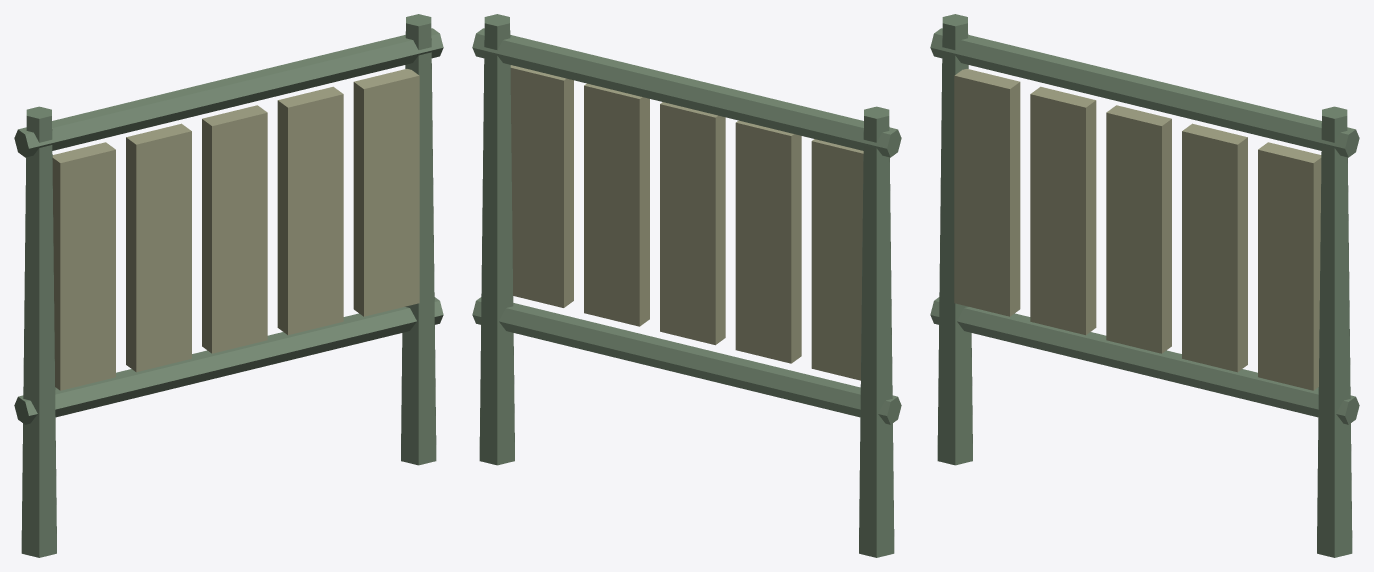
Rendered from map-exclusive-v3__lake_11.glb.
3 renders of one model, left to right at view 1: azimuth 30°, elevation 25°; view 2: azimuth 150°, elevation 25°; view 3: azimuth 330°, elevation 25°, orthographic.
Parts seen in each view (by area): view 1: lake_11; view 2: lake_11; view 3: lake_11.
Part boxes in pixels (bbox=[...]): lake_11: bbox=[14, 14, 443, 557]; lake_11: bbox=[472, 14, 901, 557]; lake_11: bbox=[930, 14, 1359, 557].
Size of the model in its own units: 1.64 by 1.65 by 0.1357.
